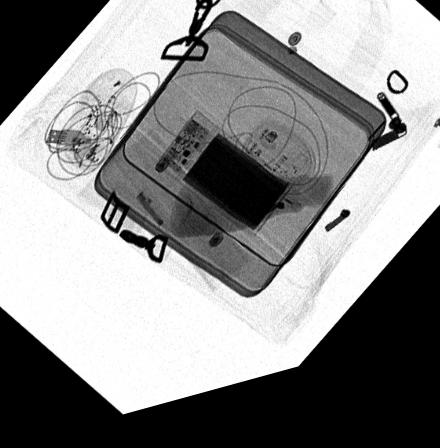Powerbank: (153, 119, 294, 251)
